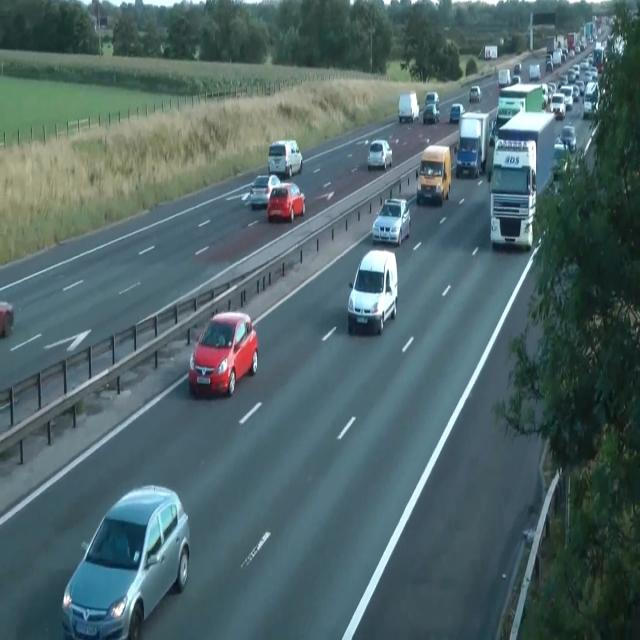bus: (372, 198, 411, 246), (266, 182, 306, 222), (490, 107, 520, 145), (250, 173, 280, 209), (367, 138, 392, 170), (553, 137, 569, 179), (0, 300, 14, 337), (558, 125, 576, 151), (418, 103, 439, 125), (449, 103, 465, 123), (424, 90, 440, 106), (522, 526, 536, 544), (469, 84, 481, 102), (511, 75, 521, 85), (514, 62, 522, 73)
jeep: (61, 483, 191, 638), (188, 310, 258, 398), (347, 248, 398, 334), (267, 138, 303, 178)
minibus: (489, 109, 555, 250), (455, 106, 497, 178), (485, 103, 521, 181), (415, 144, 451, 205), (498, 83, 548, 113), (397, 91, 419, 122), (498, 68, 510, 87), (484, 44, 498, 59), (529, 63, 541, 80)
